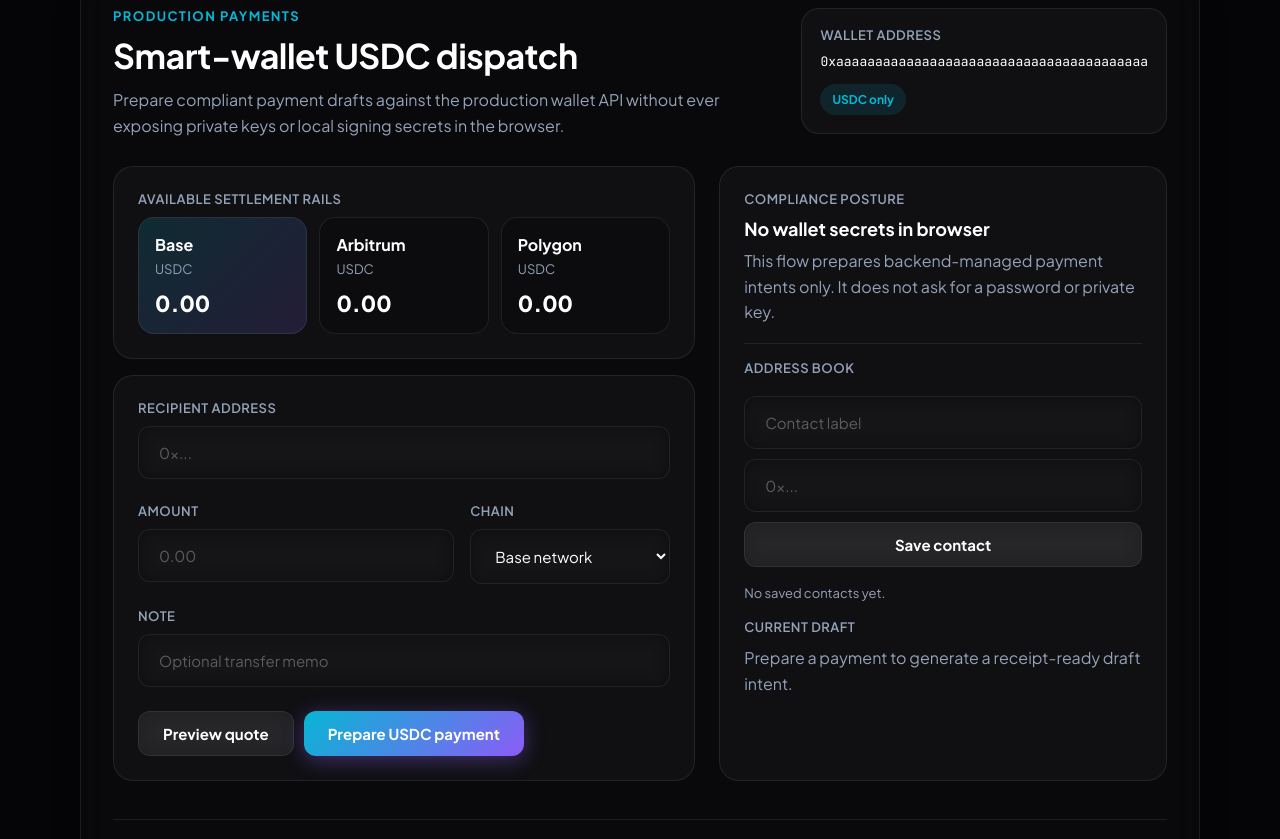
Test: ProductionWalletApp › previews a payment quote before intent creation
The width and height of the screenshot is (1280, 839).
Type "0xbbbbbbbbbbbbbbbbbbbbbbbbbbbbbbbbbbbbbbbb" into the field labelled "Recipient address" at {"x": 404, "y": 453}, box [138, 426, 670, 479]
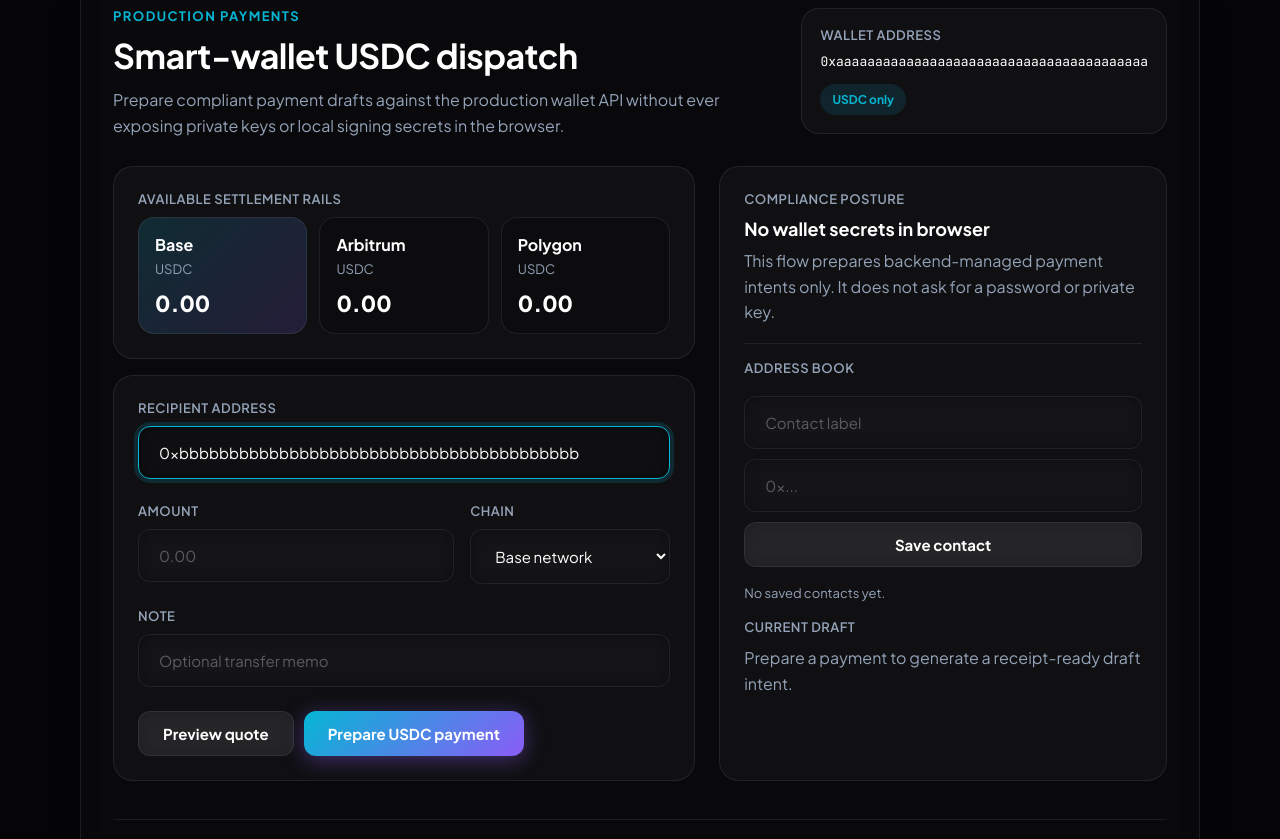
Type "12.50" into the field labelled "Amount" at {"x": 296, "y": 556}, box [138, 529, 454, 582]
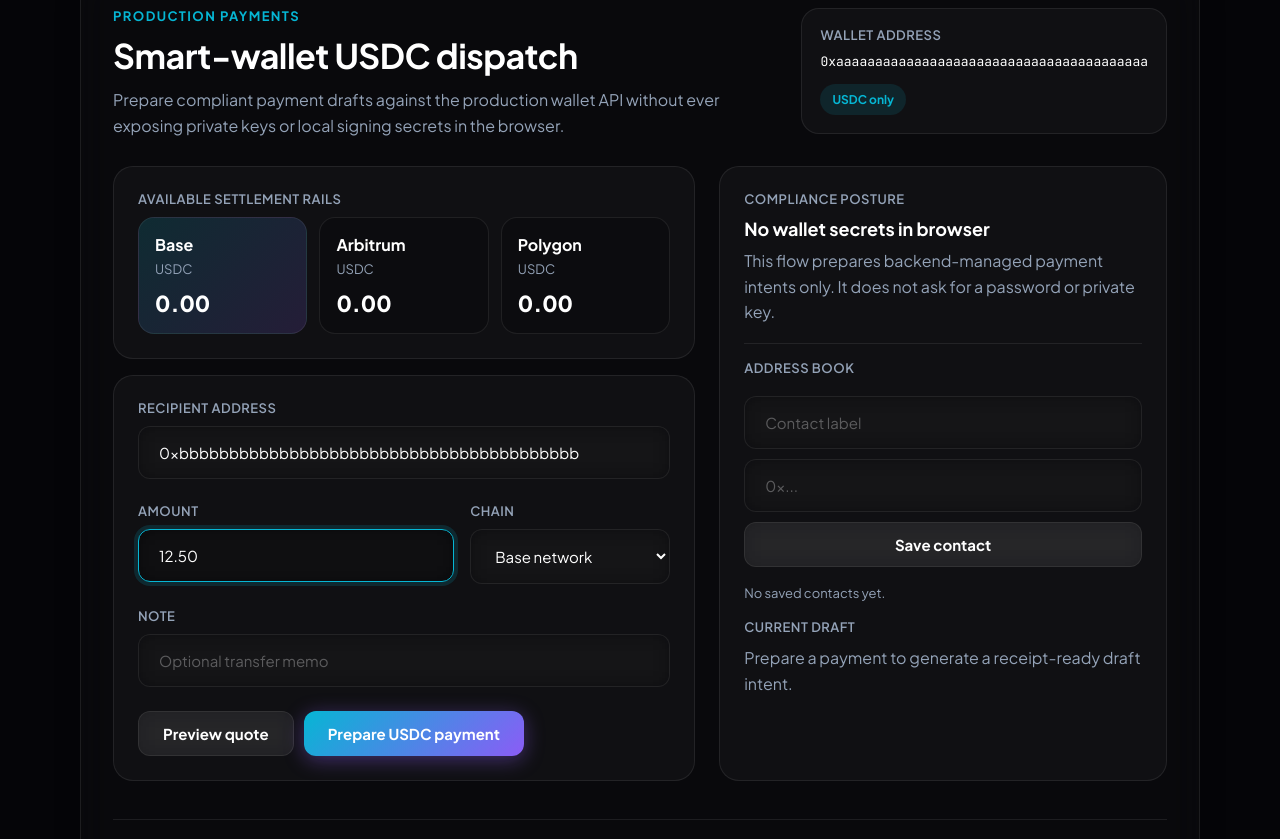
Click the button "Preview quote" at {"x": 216, "y": 734}, box [138, 711, 294, 756]
(page scrolled)
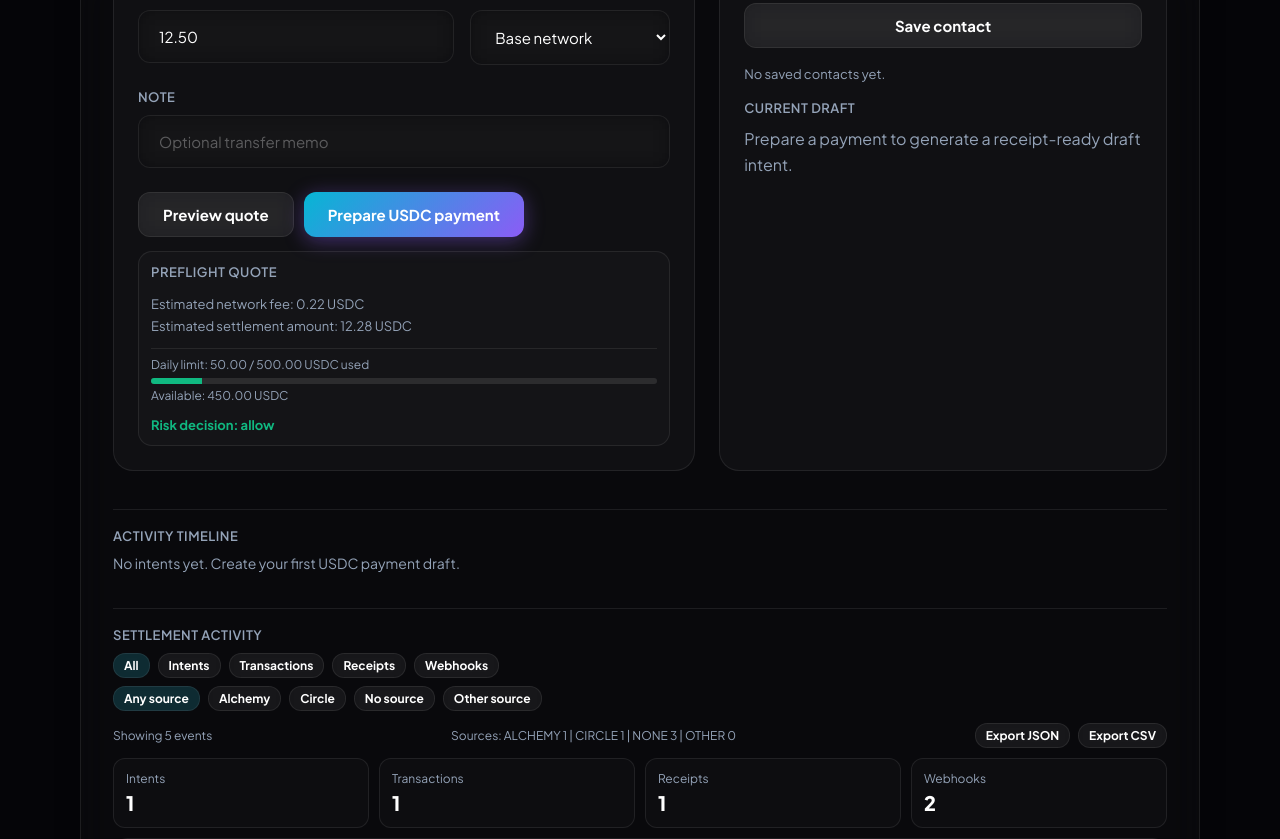
Check: the text "Estimated network fee: 0.22 USDC" is shown, box [151, 296, 364, 312]
Check: the text "Risk decision: allow" is shown, box [151, 417, 274, 433]
